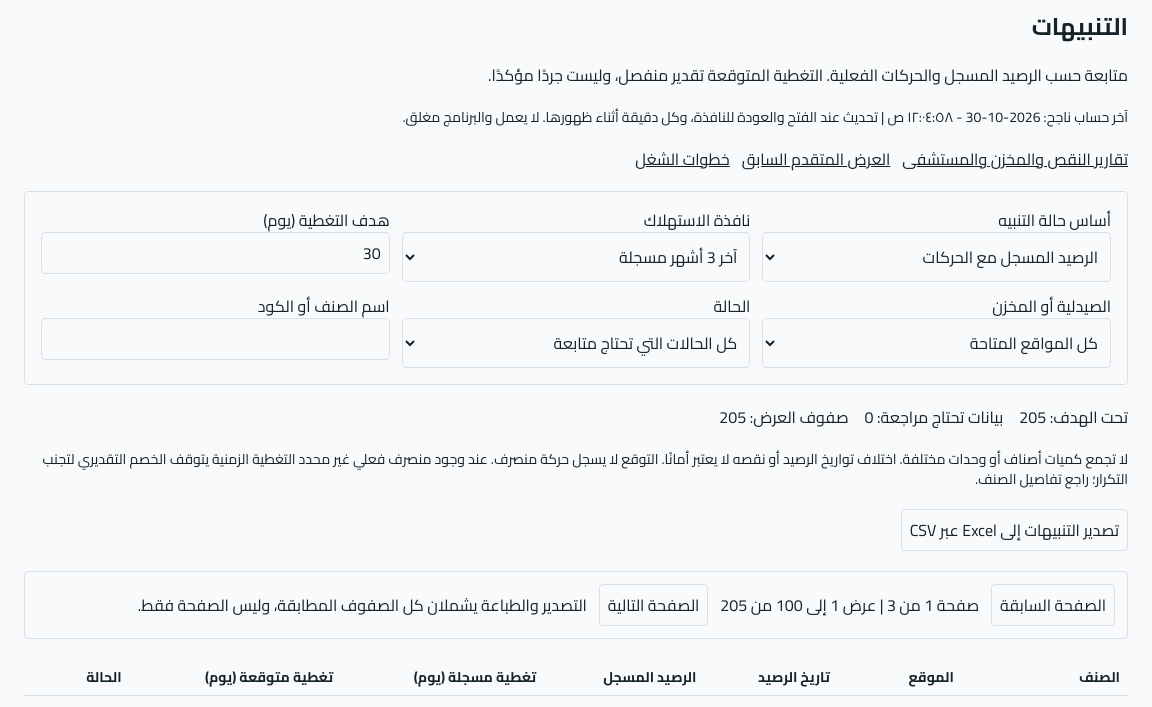
Scenario: also bounds alert tables while preserving the total count
Click the button "الصفحة التالية" at (654, 605), box [599,584,708,626]
(page scrolled)
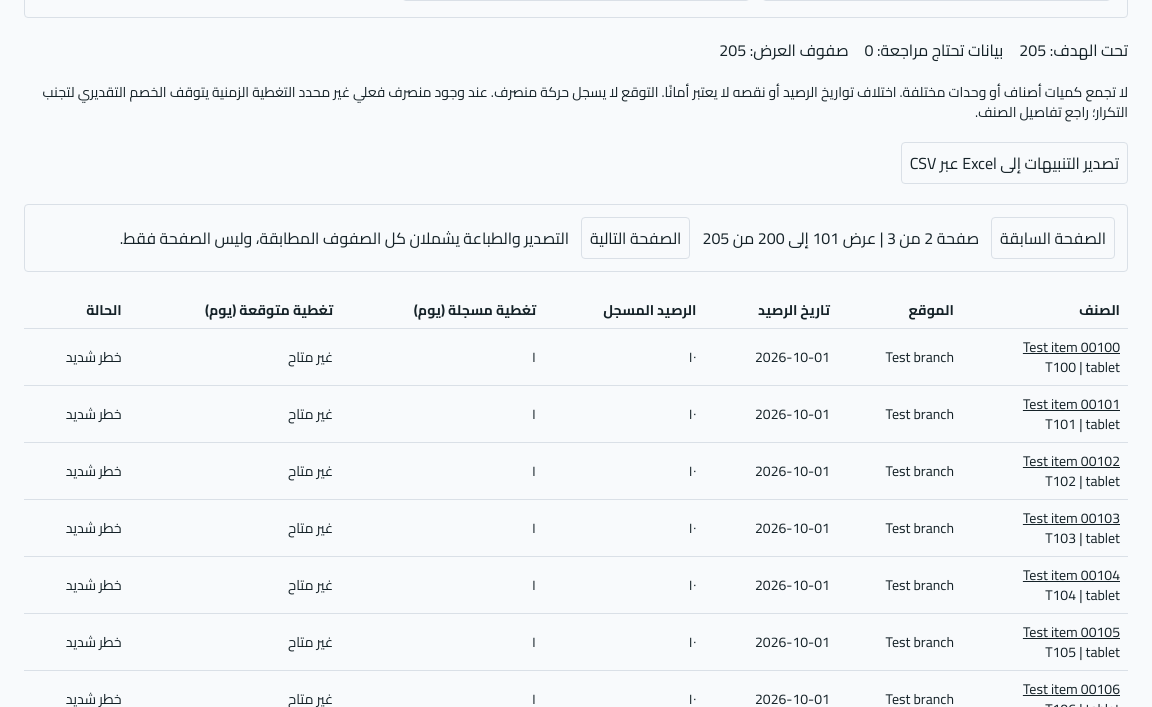
Check: the link "Test item 00100" is shown, box [1023,334,1120,360]
